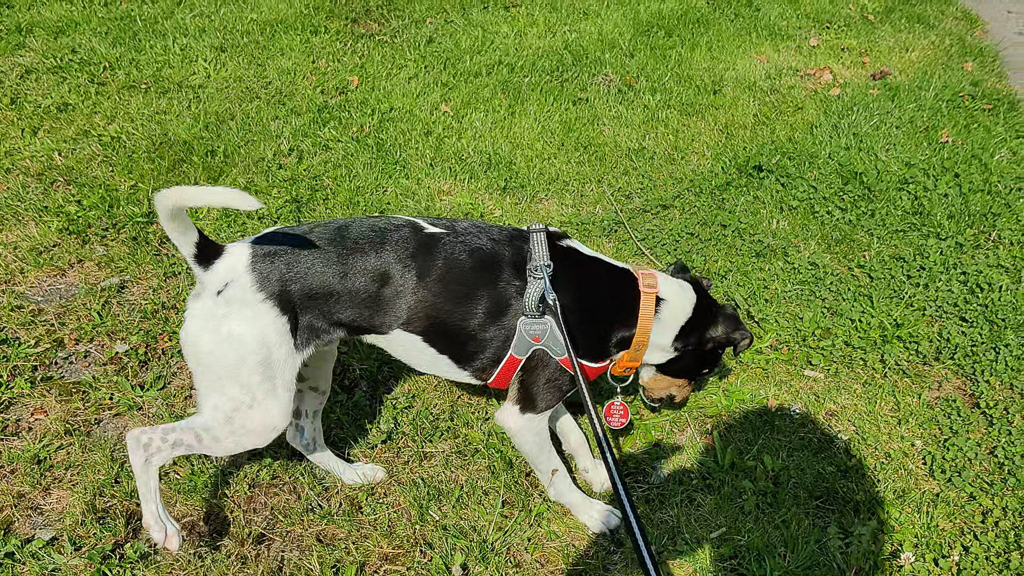Dog: (113, 167, 762, 562)
